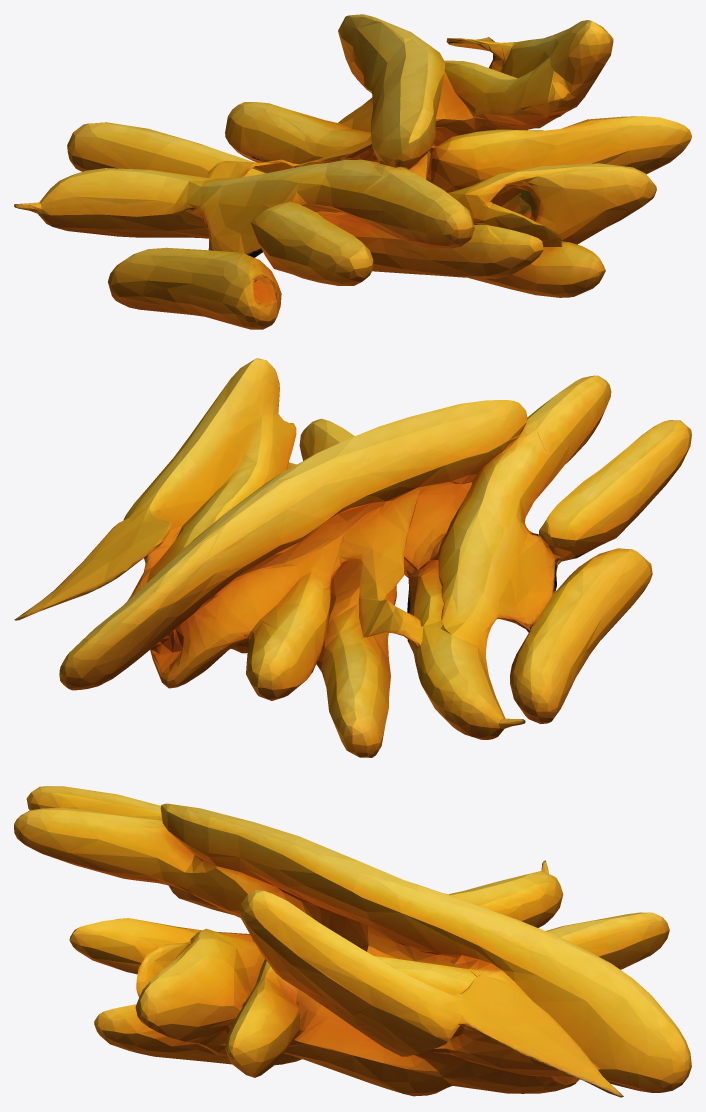
3 views of the same model, one above another, from view 1: azimuth 30°, elevation 25°; view 2: azimuth 150°, elevation 25°; view 3: azimuth 270°, elevation 25° (orthographic). The views are drawn at different scales.
Parts seen in each view (by area): view 1: geometry_0; view 2: geometry_0; view 3: geometry_0.
Part boxes in pixels (left/top/right/bottom): geometry_0: left=14, top=14, right=691, bottom=329; geometry_0: left=14, top=358, right=691, bottom=757; geometry_0: left=14, top=786, right=691, bottom=1097.
Size of the model in its own units: 0.869 by 0.3938 by 0.9904.
Materials: 1 (1 with a texture image).
